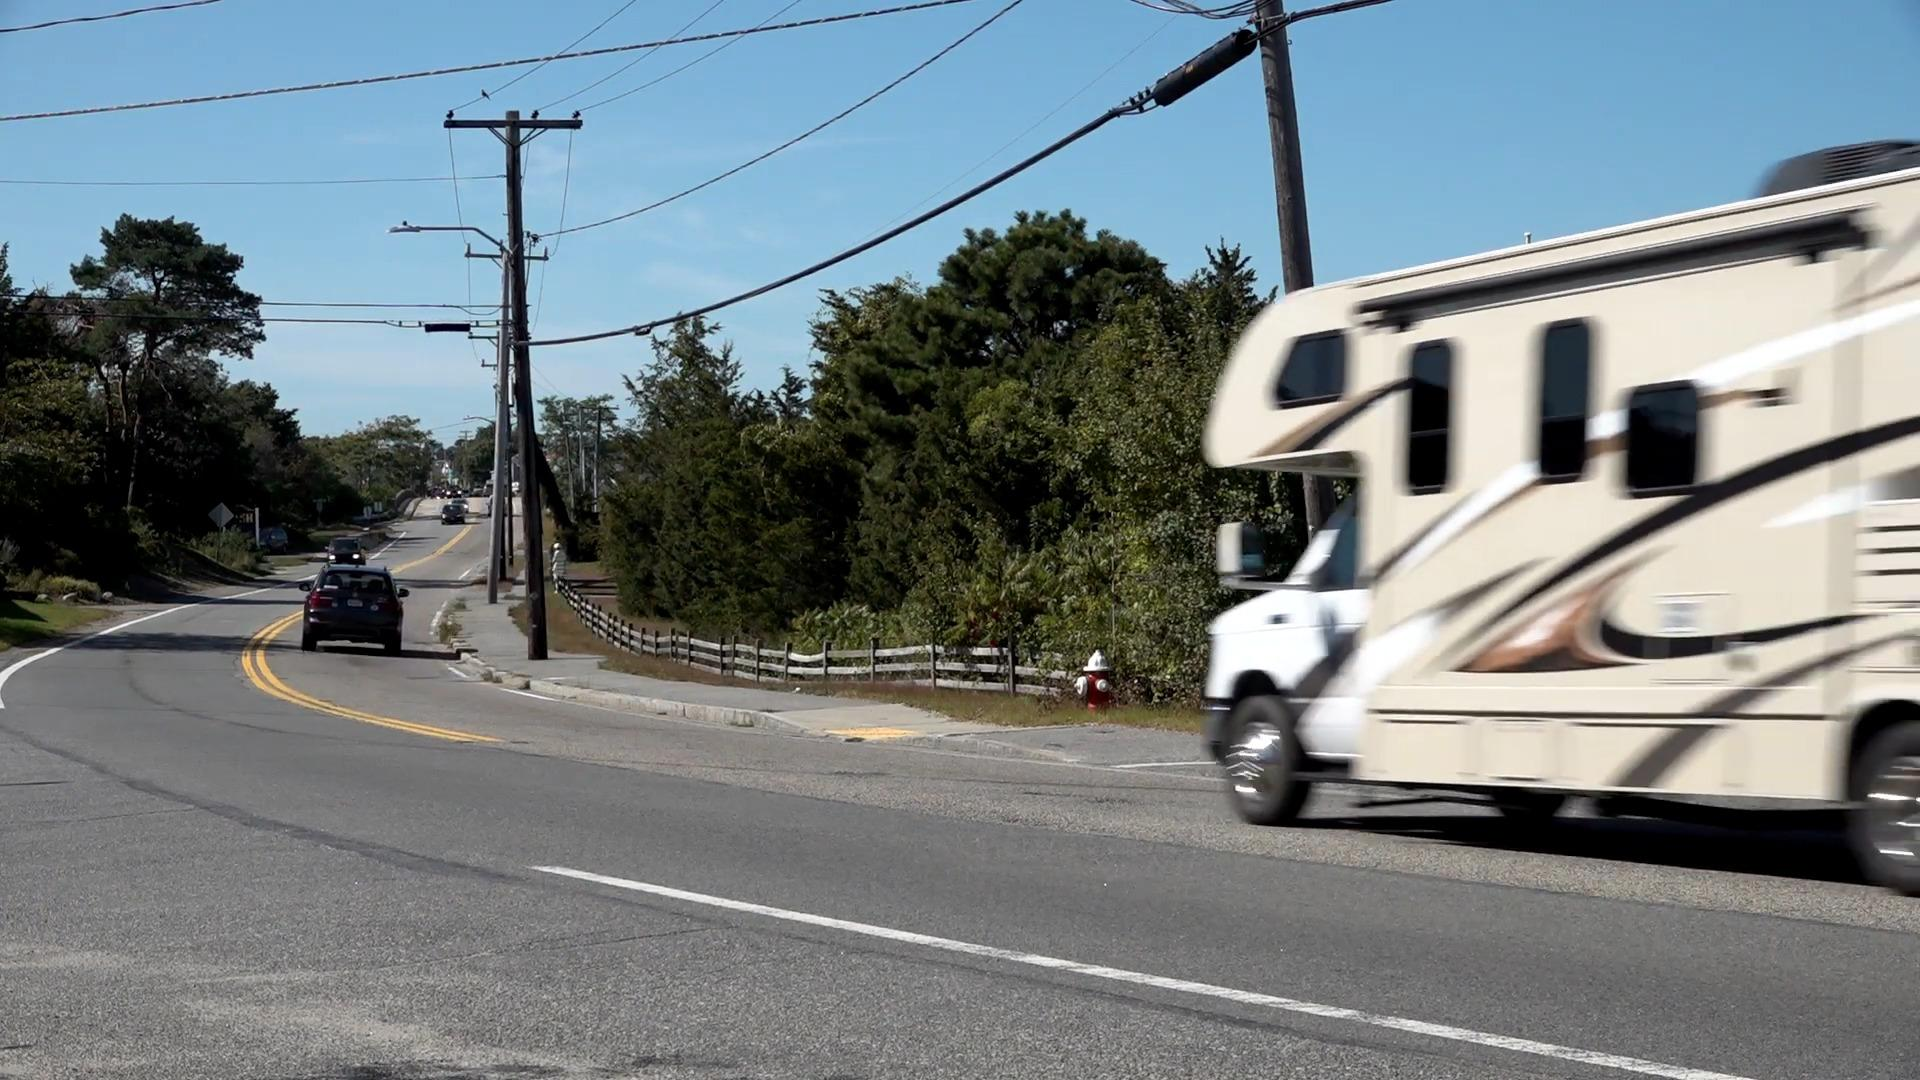suv: (301, 564, 407, 650)
truck: (1196, 169, 1912, 844)
